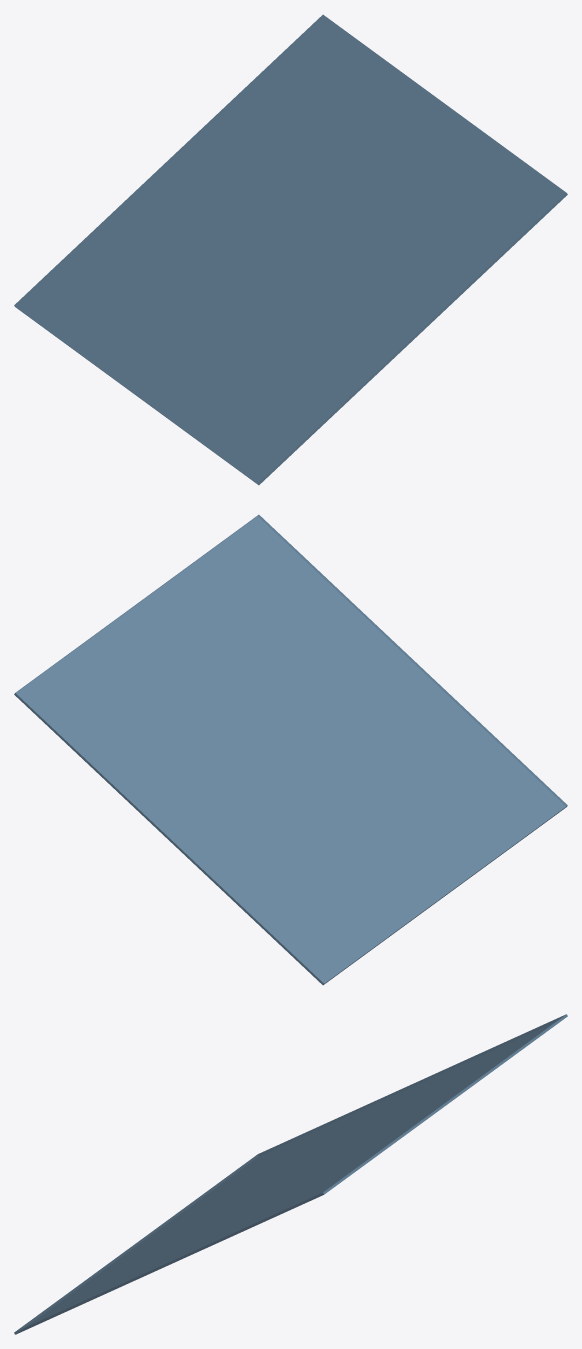
The model's file is Arch_Vault_Glazing_4.glb.
3 views of the same model, one above another, from view 1: azimuth 30°, elevation 25°; view 2: azimuth 150°, elevation 25°; view 3: azimuth 330°, elevation 25° (orthographic).
Visible parts, largest first — view 1: Arch_Vault_Glazing_4; view 2: Arch_Vault_Glazing_4; view 3: Arch_Vault_Glazing_4.
Part boxes in pixels (<box>): Arch_Vault_Glazing_4: <box>14,14,567,485</box>; Arch_Vault_Glazing_4: <box>14,514,567,985</box>; Arch_Vault_Glazing_4: <box>14,1014,567,1334</box>.
Bounding box in the file's own units: 2.21 × 1.48 × 3.
